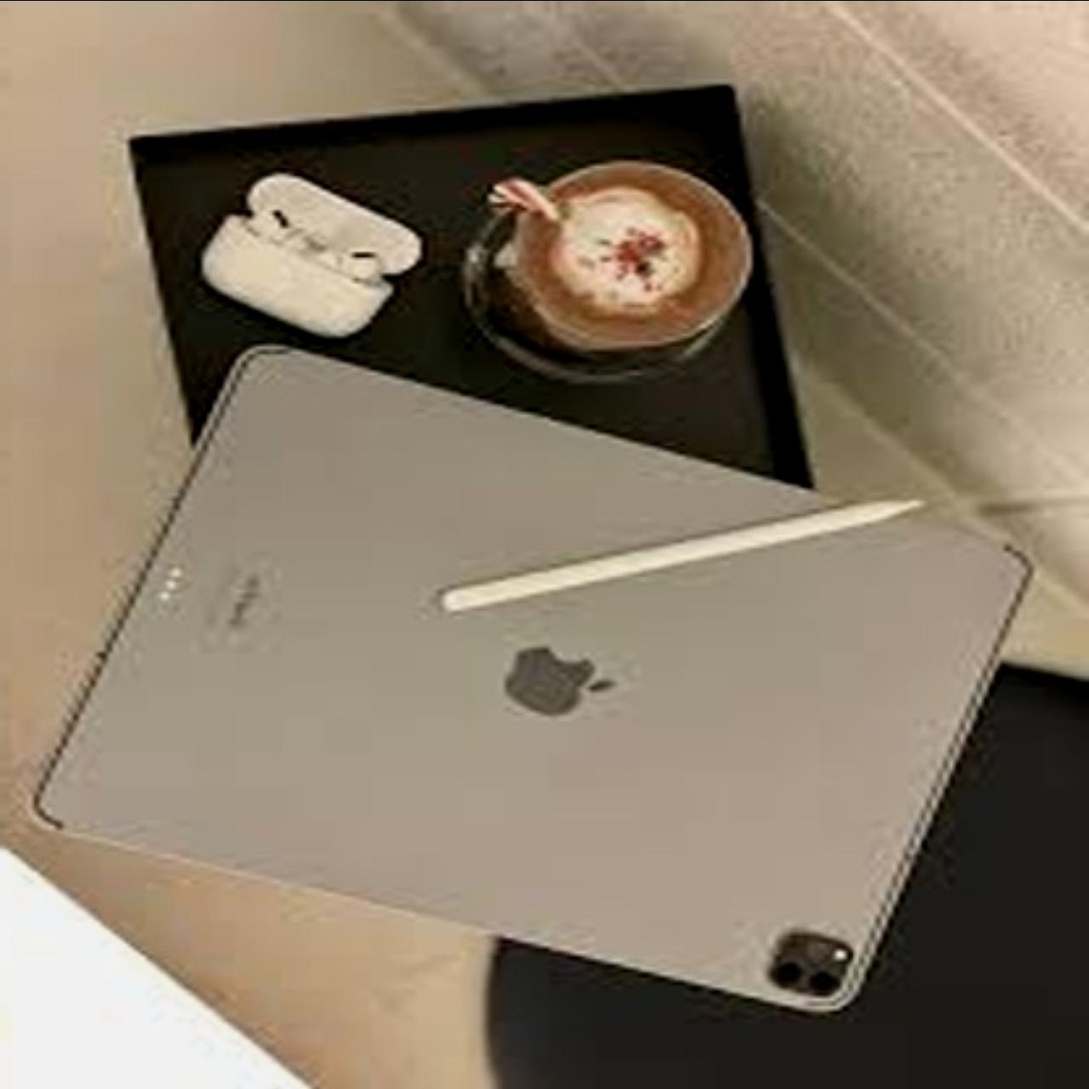Tablet_PC: (11, 322, 1058, 1039)
